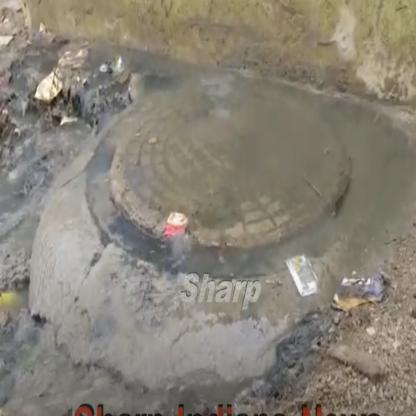drainage overflow-repair-: (0, 31, 394, 369)
